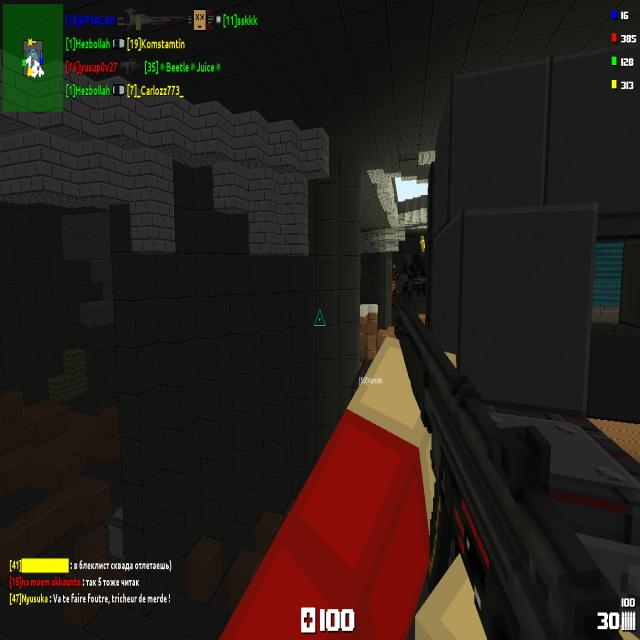enemy: (420, 236, 425, 252)
